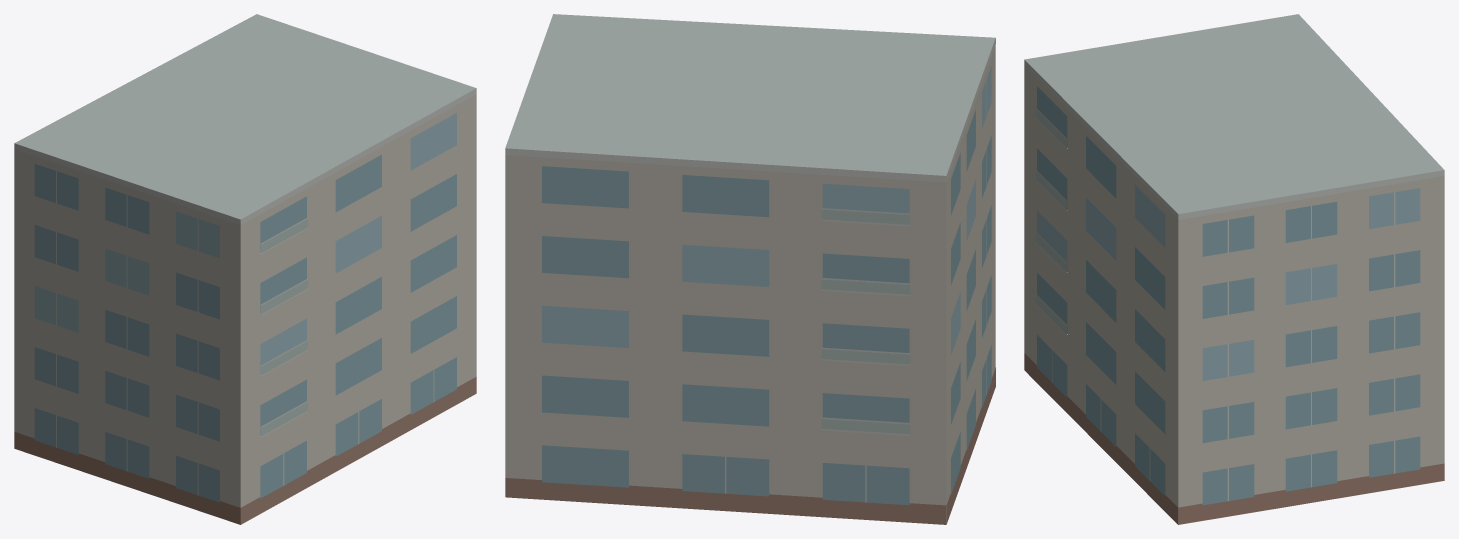
File: survey-upis-32725845.glb
The picture shows the model from 3 angles, left to right: view 1: azimuth 30°, elevation 25°; view 2: azimuth 150°, elevation 25°; view 3: azimuth 270°, elevation 25°; orthographic projection. The views are drawn at different scales.
Visible parts, largest first — view 1: survey-upis-32725845.tmp; view 2: survey-upis-32725845.tmp; view 3: survey-upis-32725845.tmp.
Boxes of the visible parts, x1=… form: survey-upis-32725845.tmp: x1=14, y1=14, x2=476, y2=524; survey-upis-32725845.tmp: x1=505, y1=14, x2=995, y2=524; survey-upis-32725845.tmp: x1=1024, y1=14, x2=1444, y2=524.
Size of the model in its own units: 18.11 by 13.1 by 16.07.
